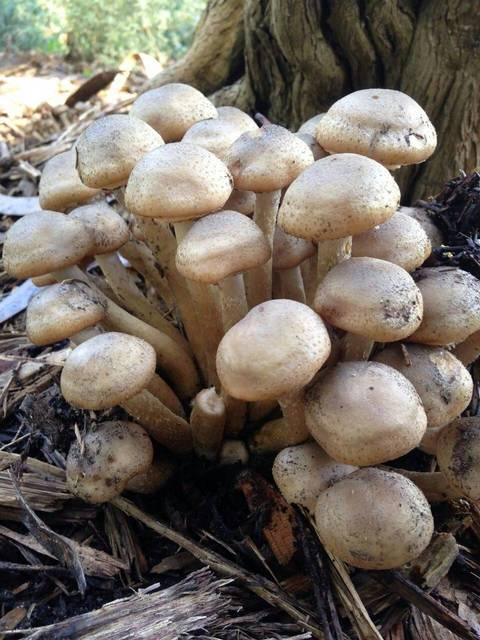Edible Mushroom: (1, 80, 479, 577)
